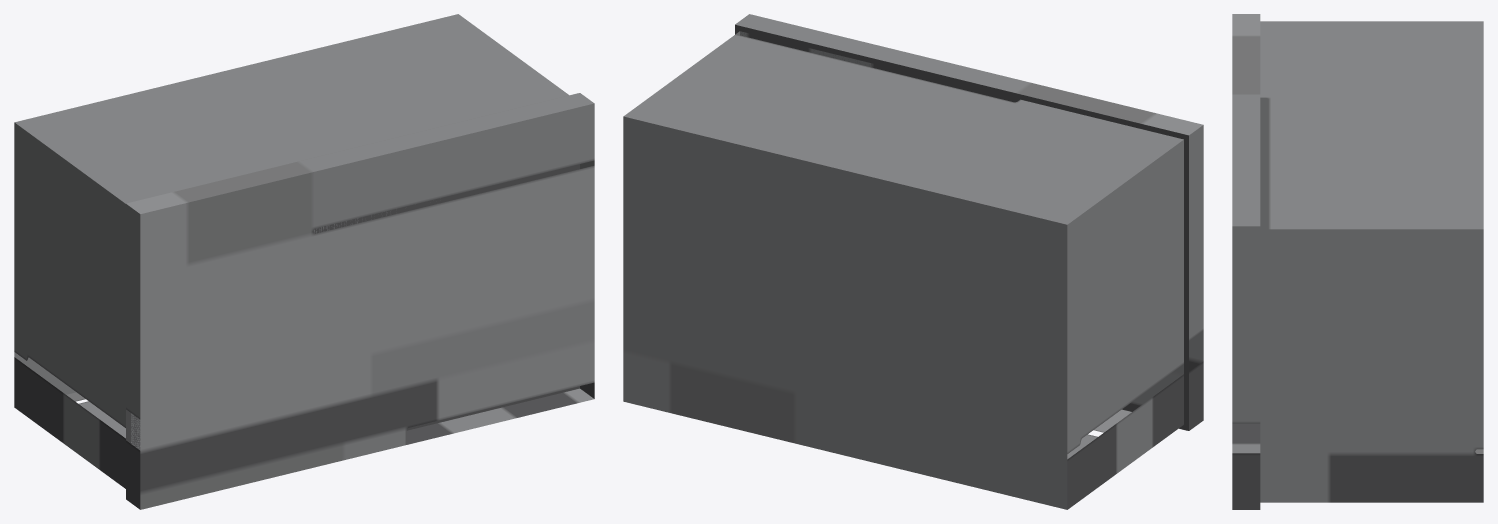
3 renders of one model, left to right at view 1: azimuth 30°, elevation 25°; view 2: azimuth 150°, elevation 25°; view 3: azimuth 270°, elevation 25°, orthographic. The views are drawn at different scales.
Bounding box in the file's own units: 0.9 × 0.56 × 0.45.
